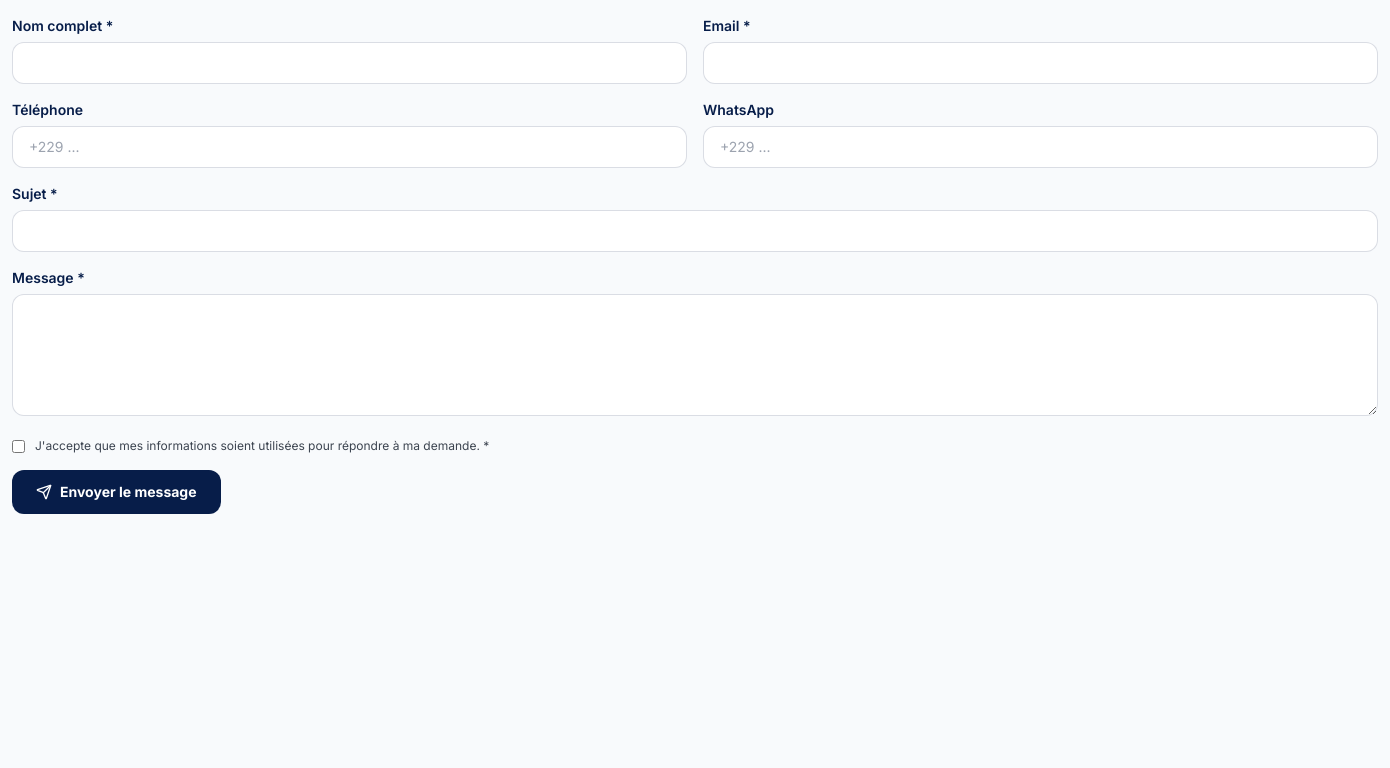
Site vitrine - formulaire de contact › valide les champs obligatoires côté frontend
Click the button "Envoyer le message": (116, 492) x1=12 y1=470 x2=221 y2=514
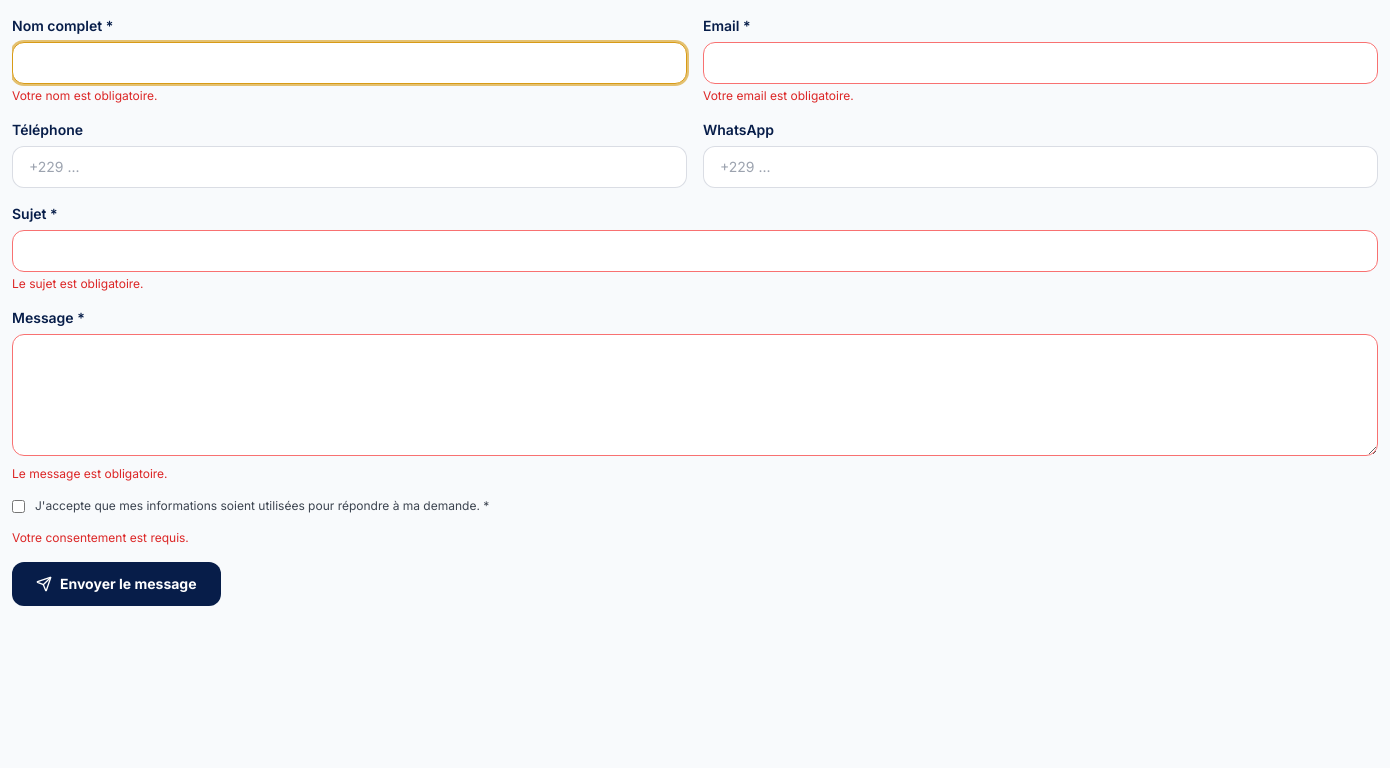
Expected: the text "Votre nom est obligatoire." is shown, x1=12 y1=88 x2=157 y2=103
Expected: the text "Votre email est obligatoire." is shown, x1=703 y1=88 x2=854 y2=103
Expected: the text "Le sujet est obligatoire." is shown, x1=12 y1=276 x2=144 y2=291
